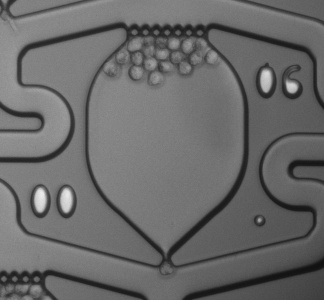AptNum: (249, 59, 309, 107)
Marker: (248, 210, 270, 231)
StNum: (22, 176, 86, 227)
Trap: (138, 257, 195, 300)
